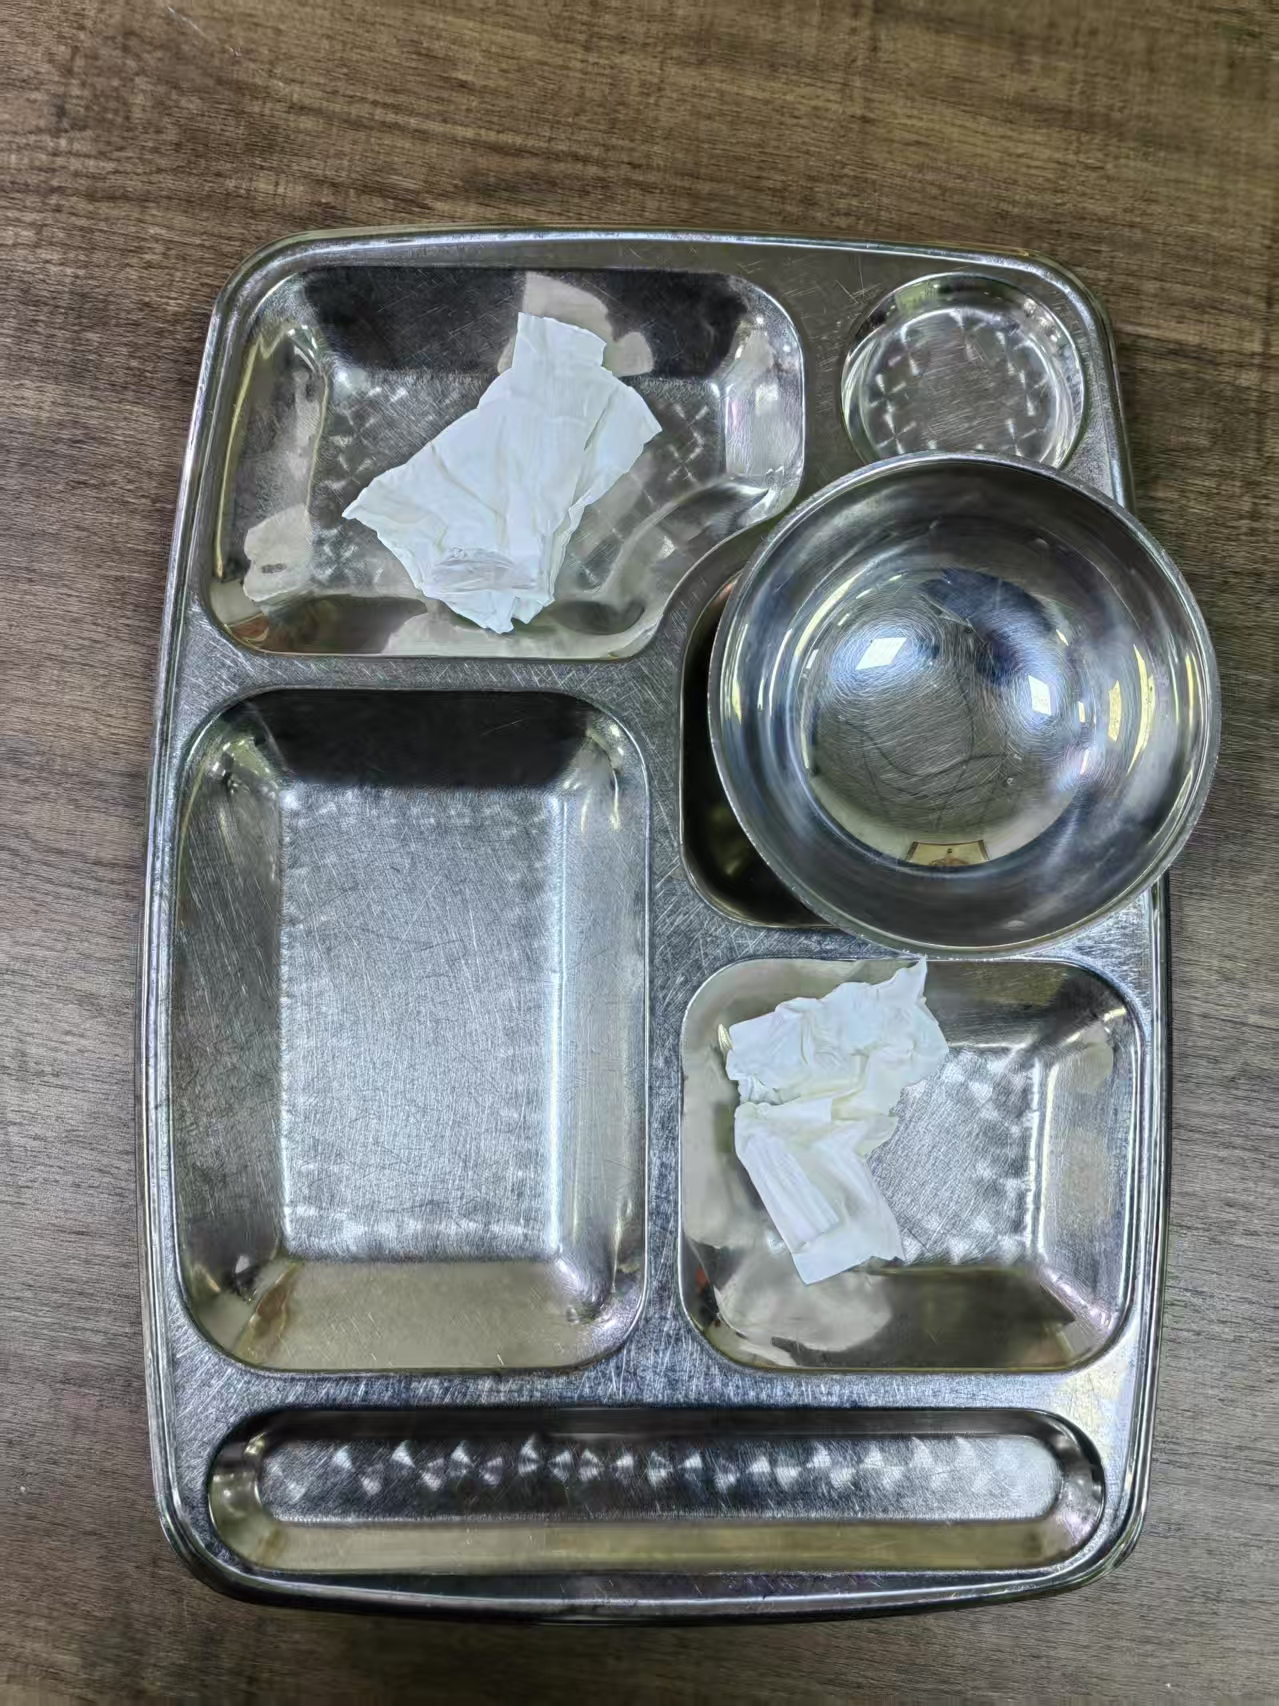plate: (141, 223, 1175, 1629)
tissue: (334, 303, 662, 636), (713, 949, 952, 1290)
